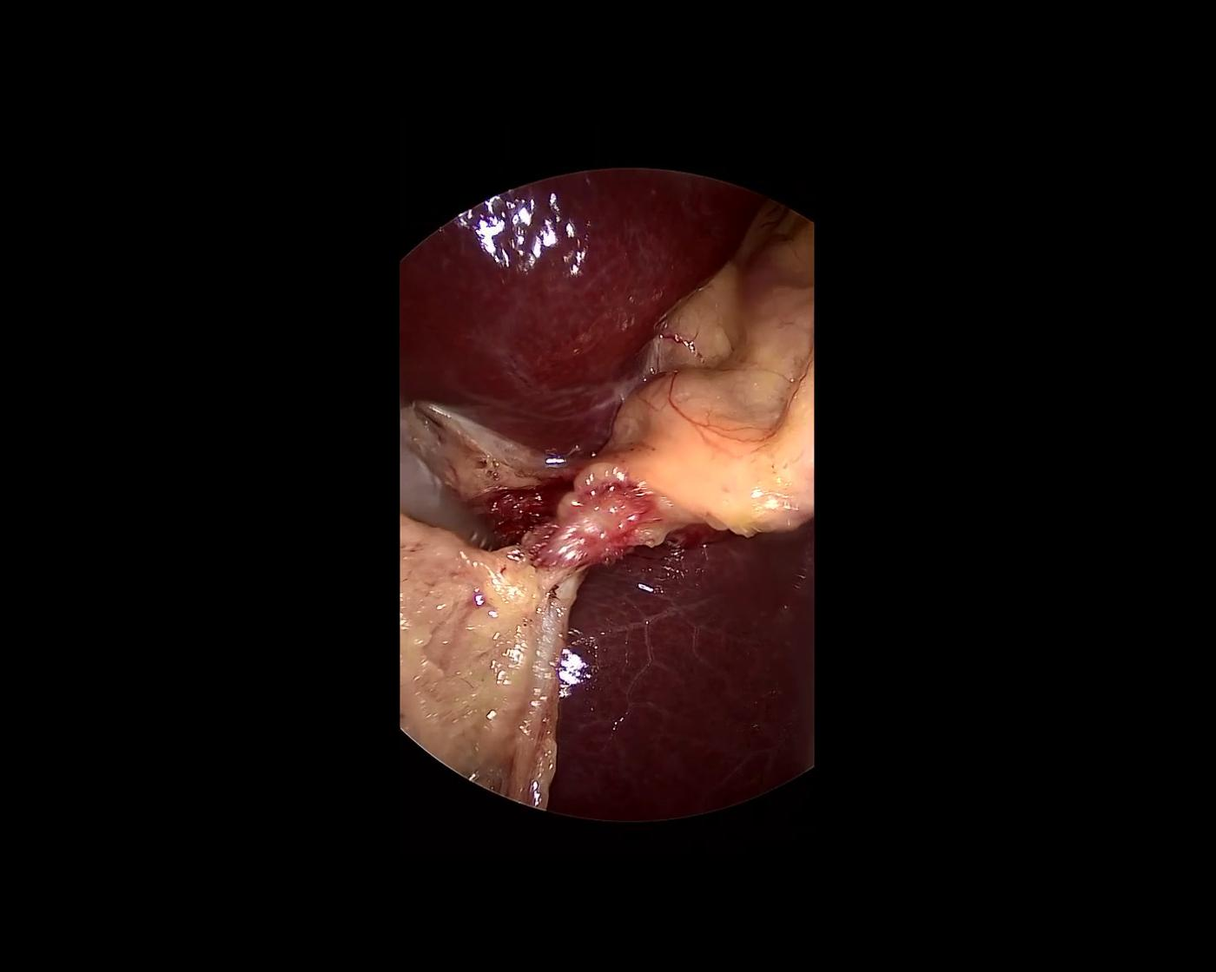Gallbladder: (387, 517, 568, 811)
Liver: (341, 52, 764, 502), (540, 519, 818, 820)
Suction: (365, 441, 505, 580)
